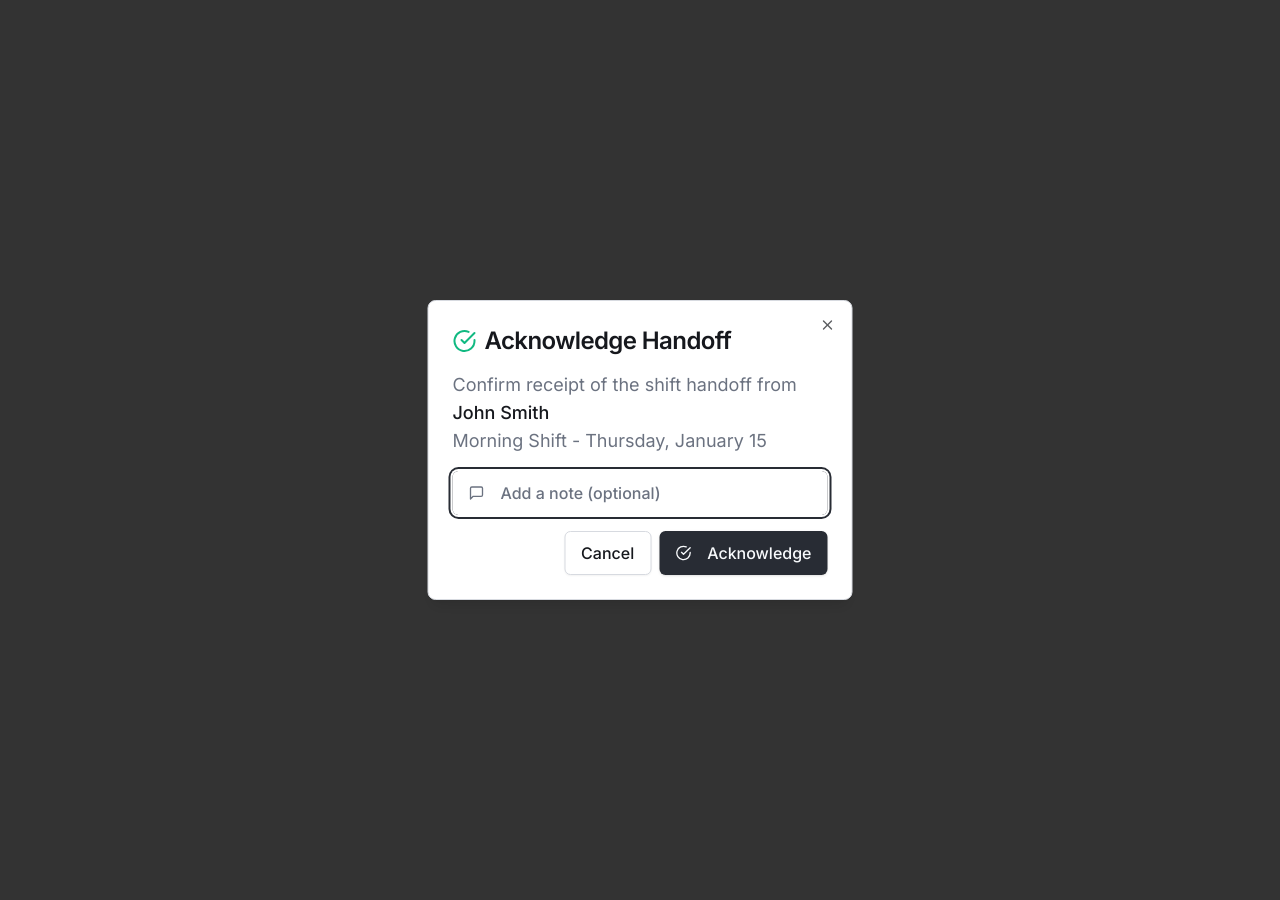
Scenario: HandoffAcknowledge › Notes Input (AC#3) › displays character count
Click the button "Add a note (optional)": (640, 493) [452,471,828,515]
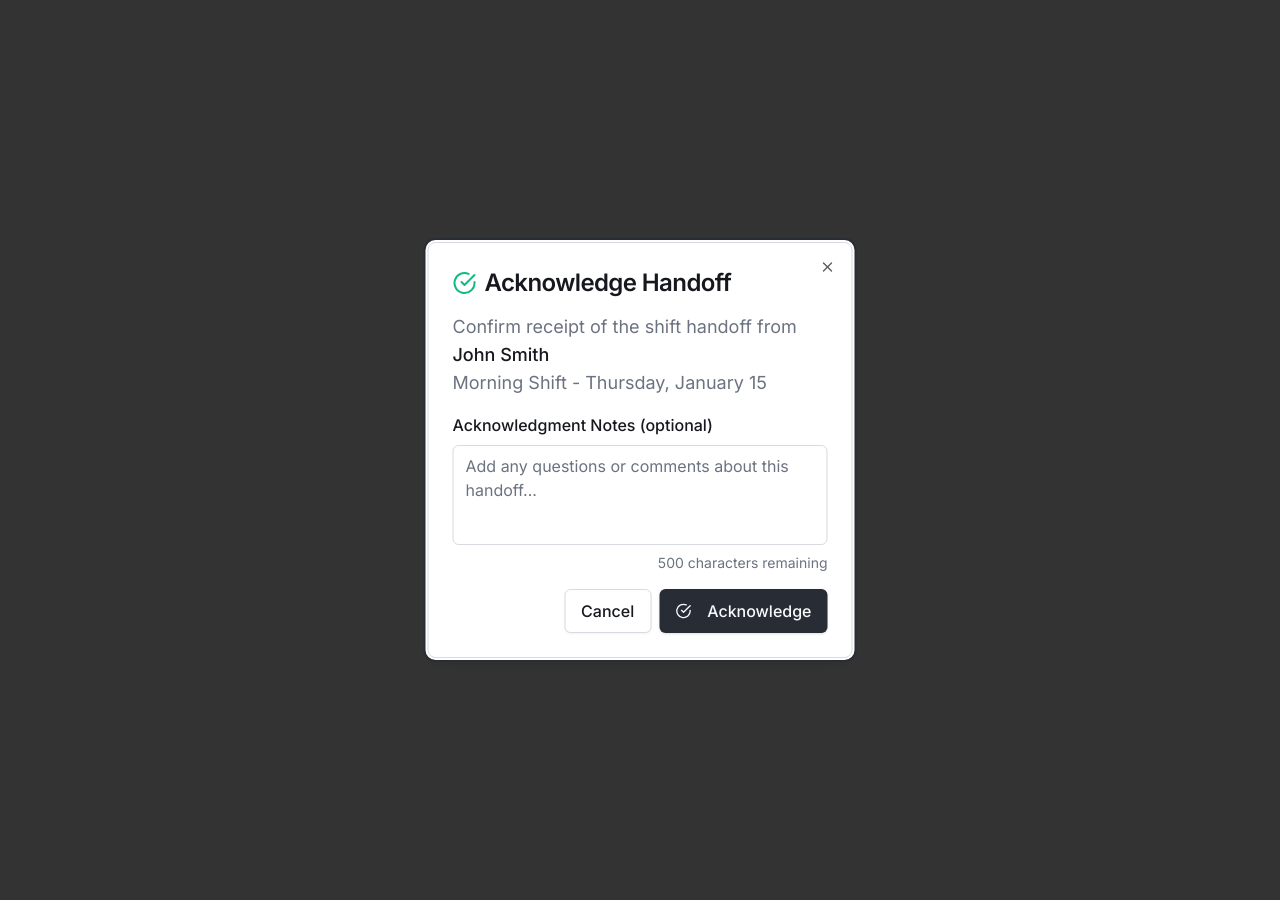
In the text box: (640, 495) [452,445,828,545], type "Test note"
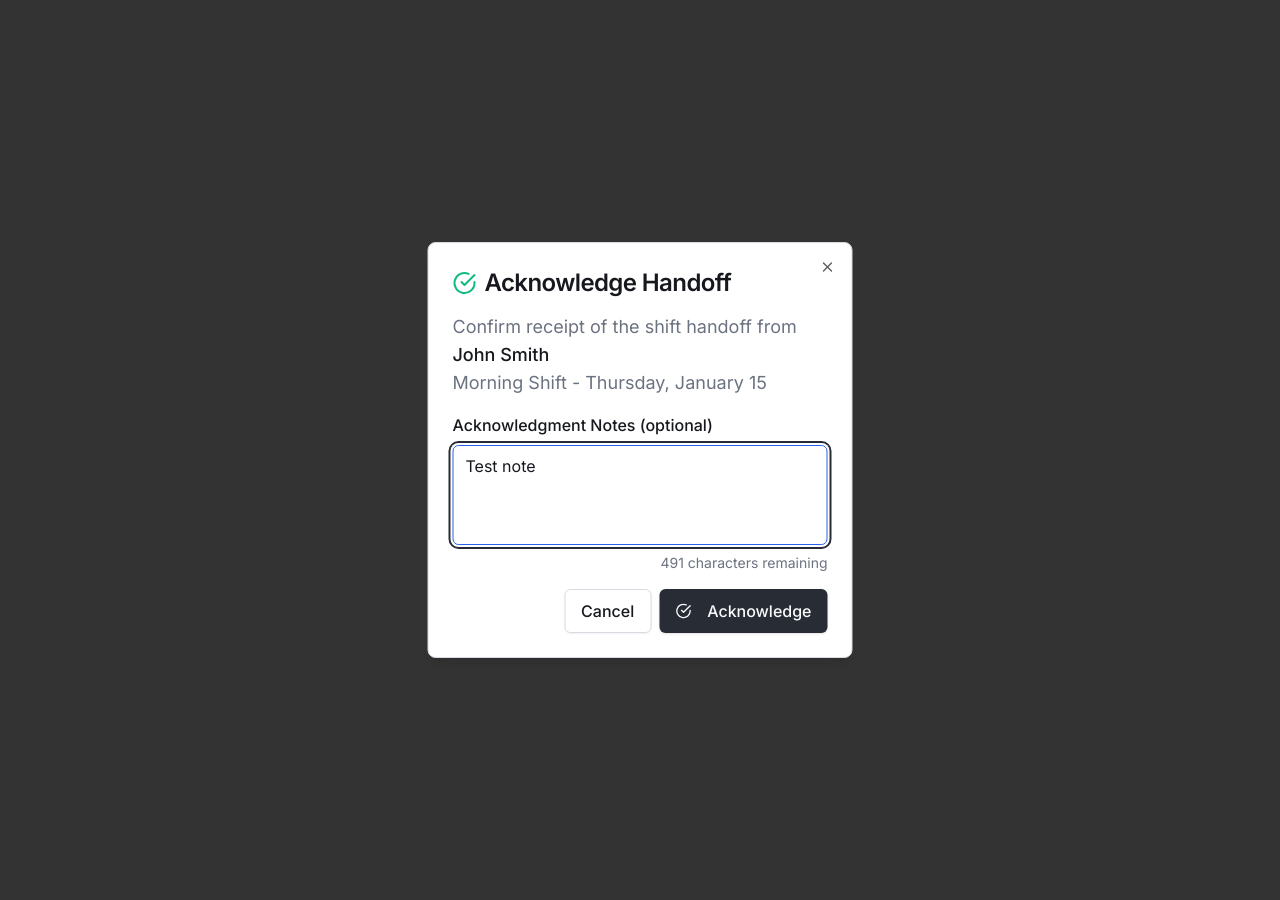
Expected: the text "491 characters remaining" is shown, [660,554,828,571]
